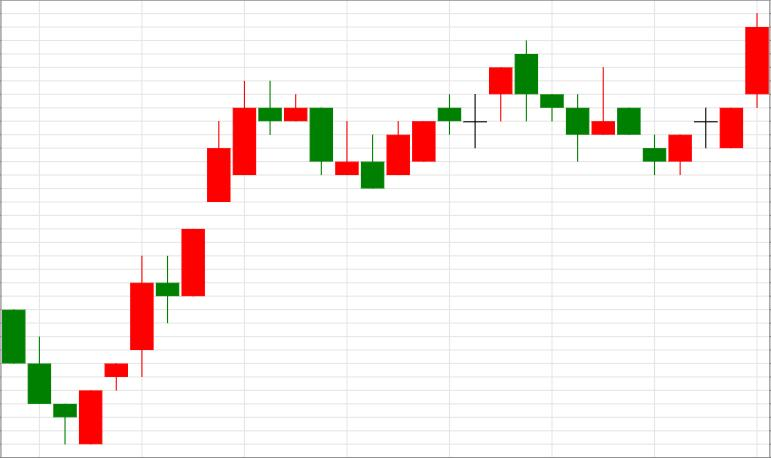bullish_engulfing_rise: (1, 309, 103, 446)
